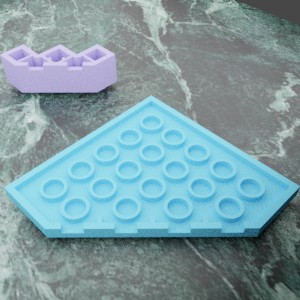lego: (4, 95, 299, 237), (0, 44, 116, 92)
